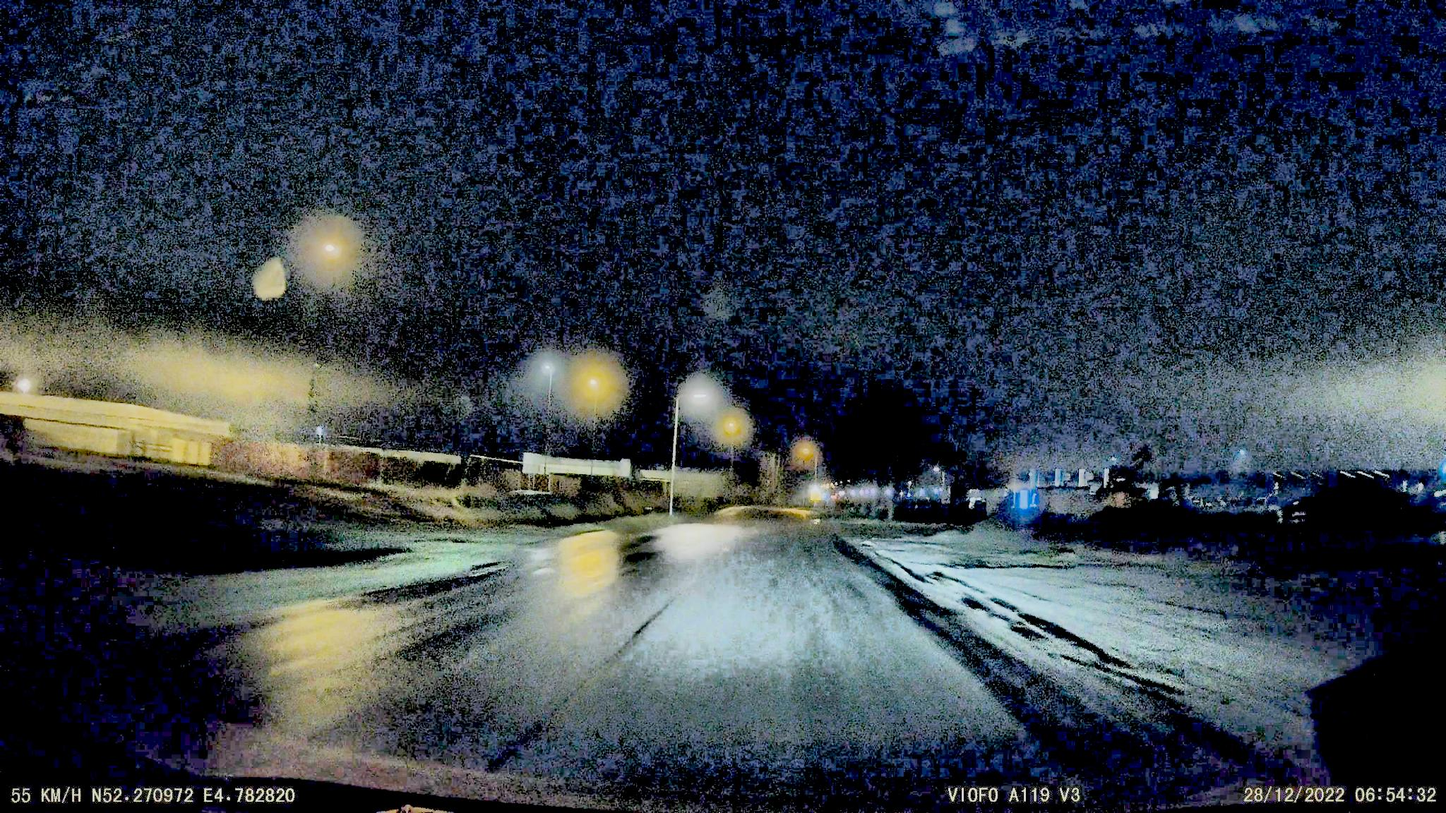Roads: (0, 504, 1078, 813)
